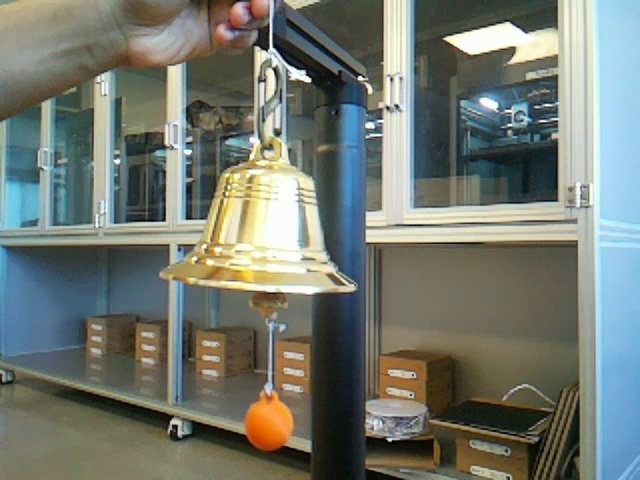bell: (159, 132, 354, 294)
pole: (312, 93, 368, 480)
